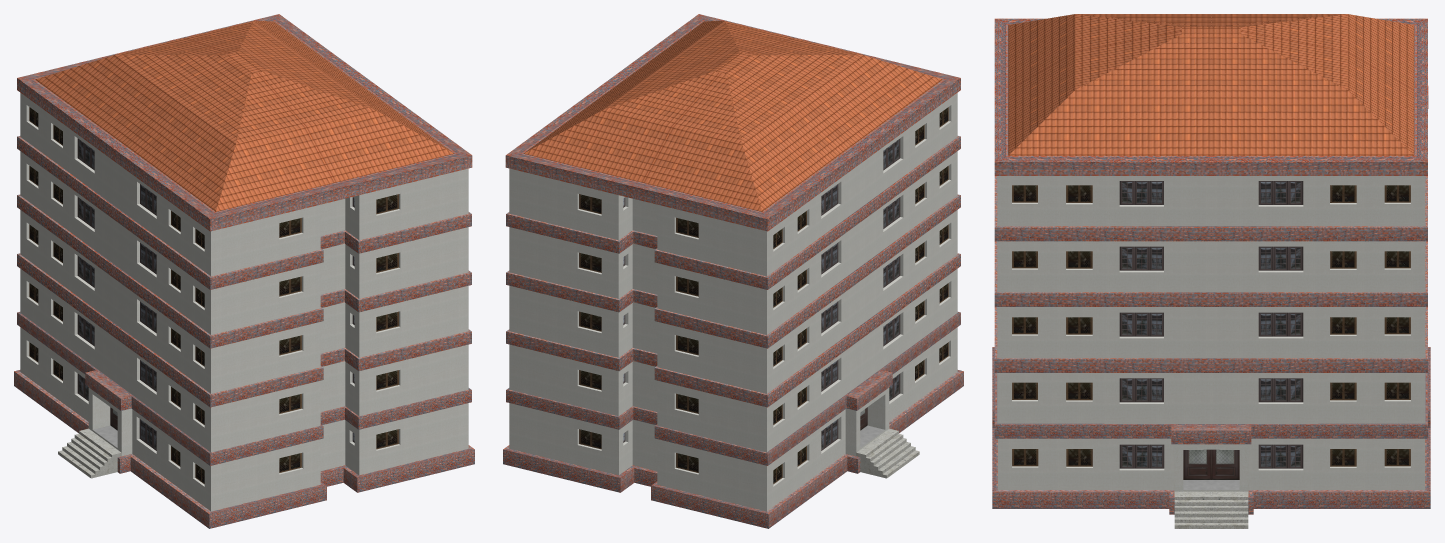
Rendered from predio2.fbx.
The picture shows the model from 3 angles, left to right: view 1: azimuth 30°, elevation 25°; view 2: azimuth 150°, elevation 25°; view 3: azimuth 270°, elevation 25°; orthographic projection. The views are drawn at different scales.
Parts seen in each view (by area): view 1: predio2; view 2: predio2; view 3: predio2.
Part boxes in pixels (x1,y1,x2,y2): predio2: (14,14,474,528); predio2: (503,14,963,528); predio2: (992,14,1430,528).
Size of the model in its own units: 22.7 by 23.11 by 22.63.
